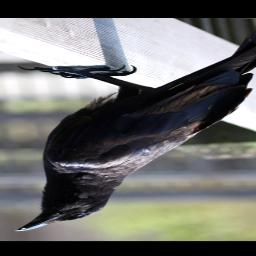Crow: (15, 22, 256, 232)
